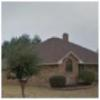chimneys: (61, 32, 70, 44)
